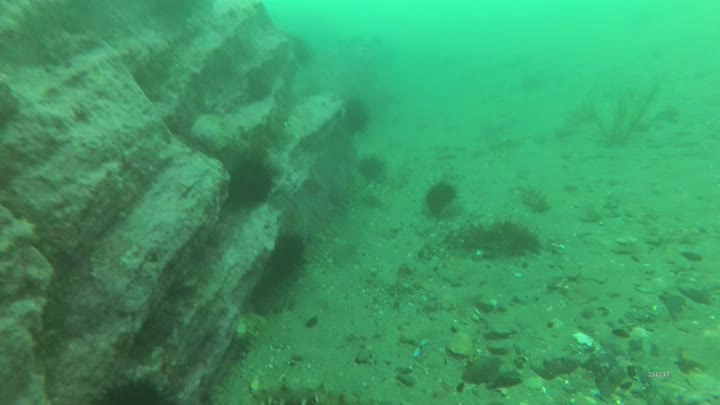echinus: (86, 372, 168, 405), (225, 158, 271, 210), (269, 231, 309, 277), (422, 179, 461, 215), (352, 150, 389, 182), (340, 102, 371, 138)
holothurian: (248, 380, 369, 405), (301, 230, 337, 267), (520, 184, 554, 215)
